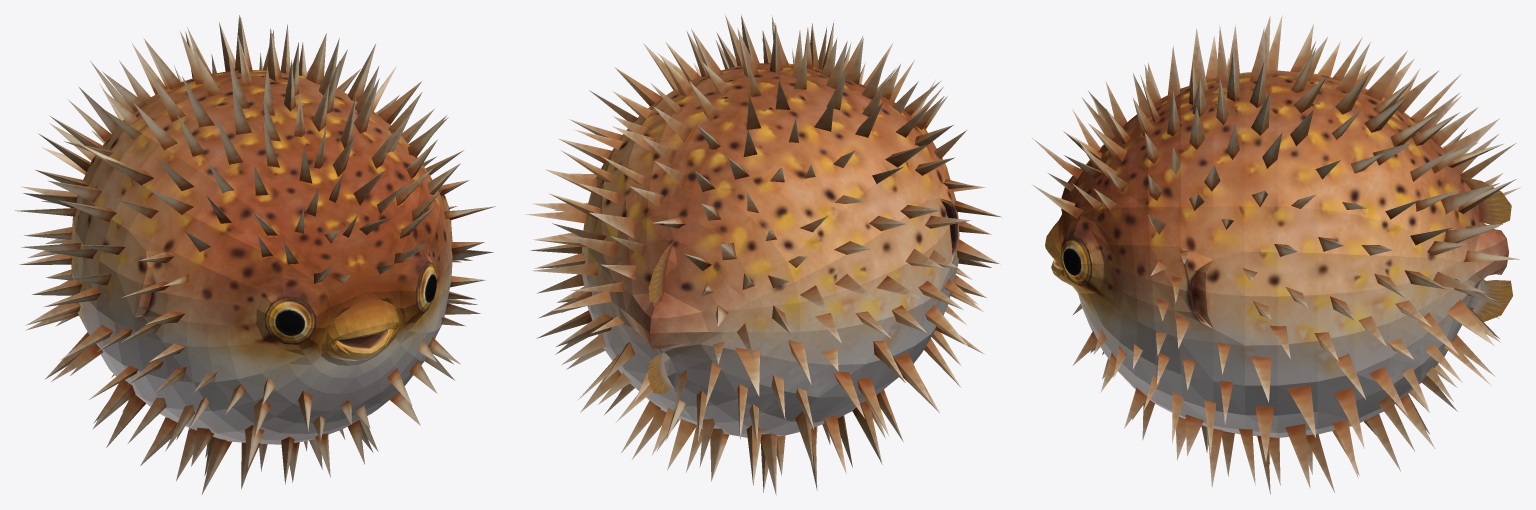
Rendered from Puffer.obj.
The picture shows the model from 3 angles, left to right: view 1: azimuth 30°, elevation 25°; view 2: azimuth 150°, elevation 25°; view 3: azimuth 270°, elevation 25°; orthographic projection.
Parts seen in each view (by area): view 1: Puffer:polySurface10polySurface6; view 2: Puffer:polySurface10polySurface6; view 3: Puffer:polySurface10polySurface6.
Boxes of the visible parts, x1,y1,x2,y2 form: Puffer:polySurface10polySurface6: [15, 15, 495, 494]; Puffer:polySurface10polySurface6: [525, 14, 1001, 495]; Puffer:polySurface10polySurface6: [1032, 14, 1520, 494].
Size of the model in its own units: 0.6927 by 0.6758 by 0.7137.
Materials: 1 (1 with a texture image).
